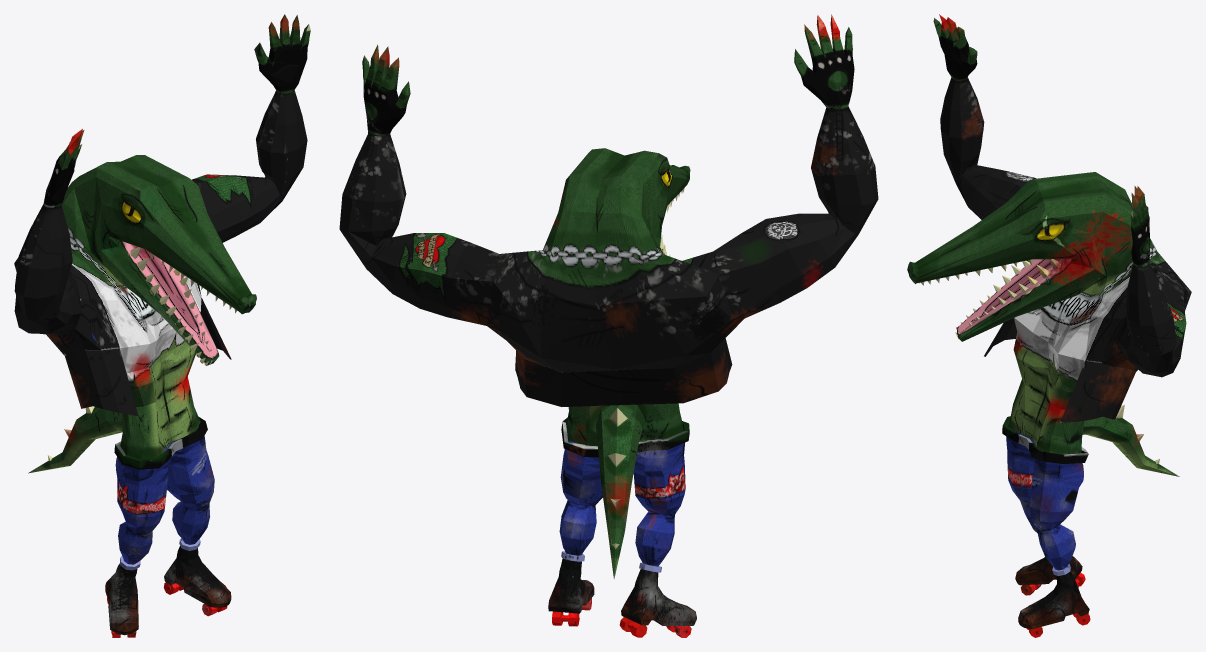
File: cocodrilaBonesSelect_000020.obj
The picture shows the model from 3 angles, left to right: view 1: azimuth 30°, elevation 25°; view 2: azimuth 150°, elevation 25°; view 3: azimuth 270°, elevation 25°; orthographic projection. The views are drawn at different scales.
Visible parts, largest first — view 1: Crocodile.002_Cylinder.002; view 2: Crocodile.002_Cylinder.002; view 3: Crocodile.002_Cylinder.002.
Boxes of the visible parts, x1,y1,x2,y2 form: Crocodile.002_Cylinder.002: (14,14,310,637); Crocodile.002_Cylinder.002: (339,14,878,637); Crocodile.002_Cylinder.002: (907,14,1191,637).
Size of the model in its own units: 6 by 8.26 by 3.98.
